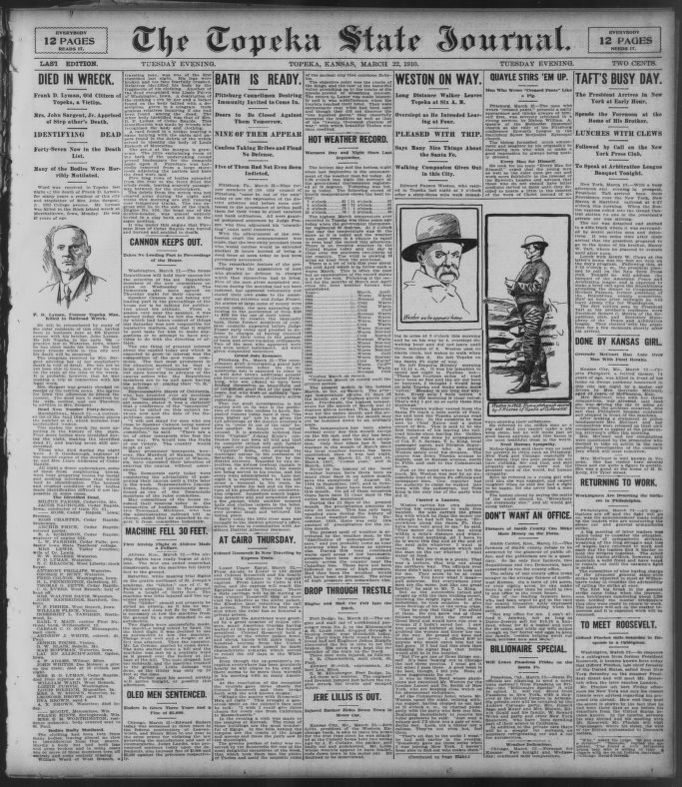news_paper: (6, 8, 677, 787)
